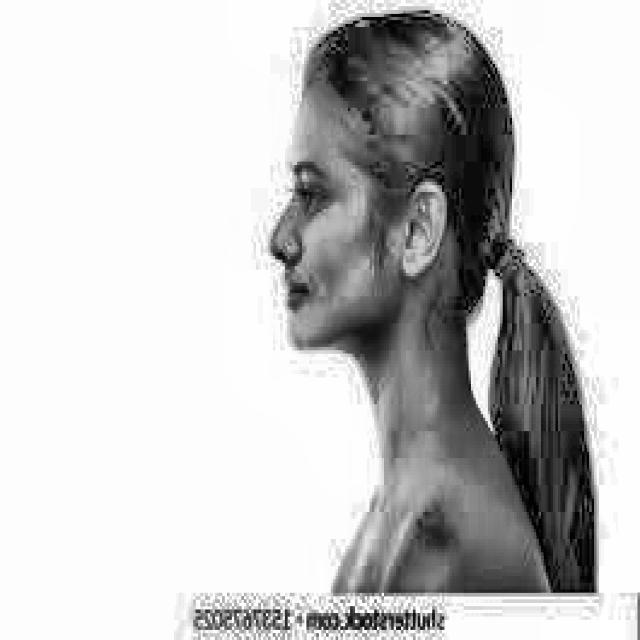Human: (236, 16, 578, 618)
